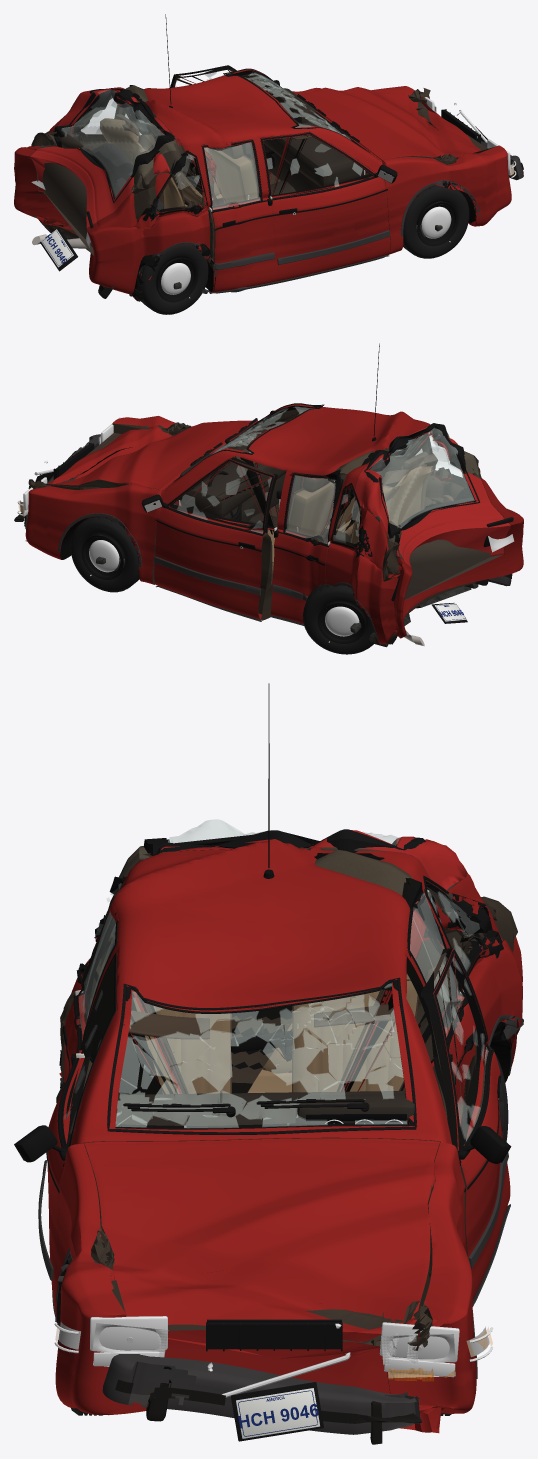
The model's file is hatchback85_rear_d2.glb.
The picture shows the model from 3 angles, top to bottom: view 1: azimuth 30°, elevation 25°; view 2: azimuth 150°, elevation 25°; view 3: azimuth 270°, elevation 25°; orthographic projection. The views are drawn at different scales.
Visible parts, largest first — view 1: Body, Interior, Door_FR, Hatch, Hood, Glass_Hatch, Door_RR, Wheel_FR_mesh, Wheel_RR_mesh, Glass_RR, Trim_FR, Glass (+7 smaller); view 2: Body, Door_FL, Interior, Hatch, Hood, Glass_Hatch, Wheel_FL_mesh, Door_RL, Wheel_RL_mesh, Glass_RL, Trim_FL, Ends (+5 smaller); view 3: Body, Hood, Glass, Interior, Ends, Bumper_F, Door_FL, Hatch, Trim_FL, Trim, Door_FR, Glass_Hatch (+6 smaller).
Part boxes in pixels (x1,y1,x2,y2): Body: [14, 69, 511, 301]; Interior: [44, 77, 363, 208]; Door_FR: [260, 132, 390, 281]; Hatch: [30, 88, 181, 255]; Hood: [294, 87, 481, 161]; Glass_Hatch: [54, 88, 174, 203]; Door_RR: [201, 139, 276, 292]; Wheel_FR_mesh: [403, 185, 469, 258]; Wheel_RR_mesh: [139, 245, 208, 314]; Glass_RR: [202, 142, 262, 210]; Trim_FR: [261, 132, 397, 283]; Glass: [75, 68, 369, 219]; Body: [25, 404, 523, 644]; Door_FL: [154, 457, 277, 620]; Interior: [179, 411, 453, 574]; Hatch: [354, 424, 511, 599]; Hood: [45, 422, 254, 490]; Glass_Hatch: [364, 423, 480, 543]; Wheel_FL_mesh: [70, 516, 139, 592]; Door_RL: [271, 472, 341, 623]; Wheel_RL_mesh: [302, 584, 374, 654]; Glass_RL: [283, 475, 341, 544]; Trim_FL: [141, 459, 273, 621]; Ends: [17, 417, 514, 623]; Body: [54, 839, 522, 1433]; Hood: [84, 1138, 440, 1341]; Glass: [80, 876, 503, 1134]; Interior: [116, 964, 444, 1125]; Ends: [54, 1316, 493, 1441]; Bumper_F: [102, 1354, 421, 1444]; Door_FL: [420, 948, 510, 1299]; Hatch: [119, 830, 467, 940]; Trim_FL: [434, 949, 511, 1306]; Trim: [55, 683, 523, 1378]; Door_FR: [47, 951, 117, 1309]; Glass_Hatch: [143, 819, 456, 928].
Size of the model in its own units: 3.81 by 2.19 by 1.96.
32 materials, 5 textured.
